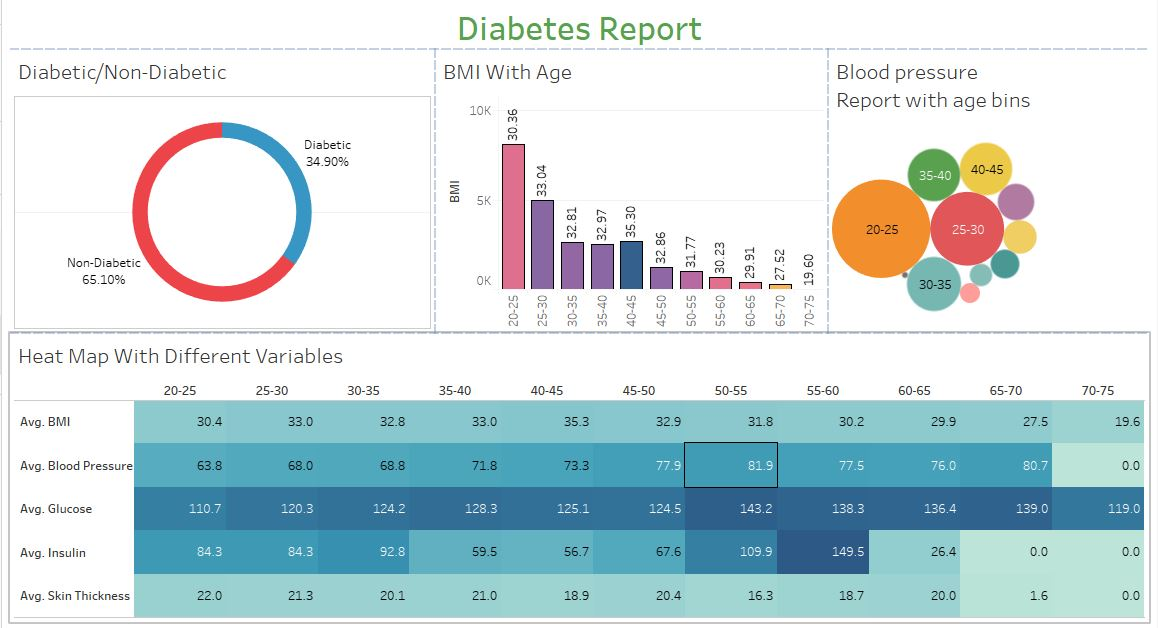

Layout of this report page (visuals, bound fields, positions):
{"tool":"tableau","page":{"name":"Diabetes Report","canvas":[1000,1000],"units":"permille","ordinal":2},"visuals":[{"type":"worksheet","box":[0,0,1000,1000]},{"type":"worksheet","box":[6.9,12.7,986.1,68]},{"type":"worksheet","title":"Pie Chart","mark":"Pie","rows":["Calculation_584060595161591811","Calculation_584060595161591811"],"box":[6.9,80.7,368,449.4]},{"type":"worksheet","title":"Histogram","mark":"Bar","rows":["BMI"],"cols":["Calculation_584060595154186242"],"box":[374.9,80.7,340.3,449.4]},{"type":"worksheet","title":"Bubble chart","mark":"Circle","box":[715.1,80.7,277.9,449.4]},{"type":"worksheet","title":"Heat map","mark":"Square","cols":["Calculation_584060595154186242"],"box":[6.9,530.1,986.1,457.3]}]}

Visuals, with their boxes on the dashboard's canvas, which has no fixed pixel size, in thousandths of its width and height (x1, y1, x2, y2). These are canvas units, not pixel positions in the 1158x628 screenshot, which may show the page scaled, cropped or inside an application window:
worksheet: rect(0, 0, 1000, 1000)
worksheet: rect(7, 13, 993, 81)
"Pie Chart" worksheet (Pie marks): rect(7, 81, 375, 530)
"Histogram" worksheet (Bar marks): rect(375, 81, 715, 530)
"Bubble chart" worksheet (Circle marks): rect(715, 81, 993, 530)
"Heat map" worksheet (Square marks): rect(7, 530, 993, 987)
